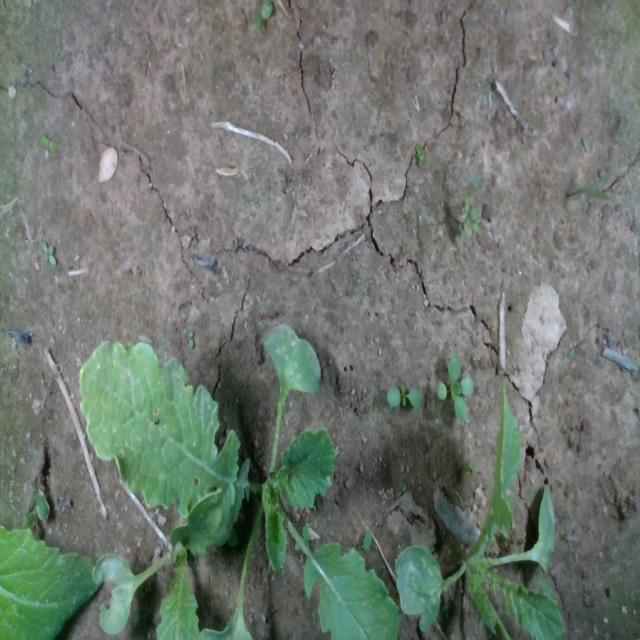weed: (386, 381, 424, 411), (40, 239, 56, 267), (414, 140, 427, 170), (41, 134, 58, 153), (187, 328, 195, 348)
